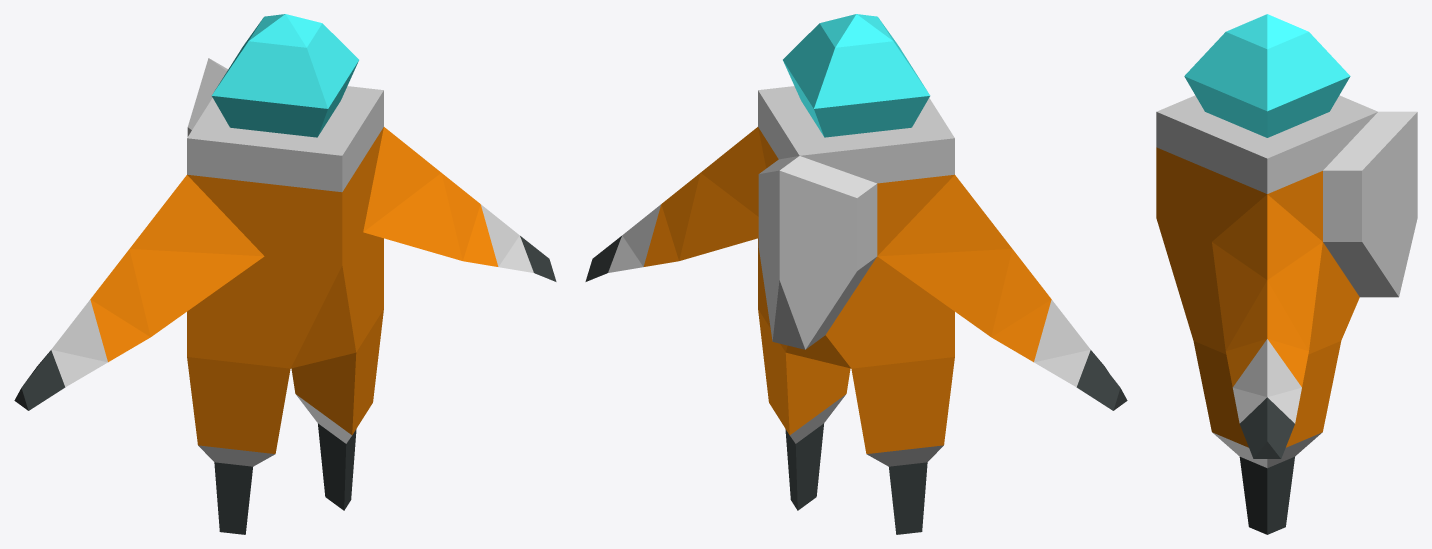
File: spaceman.fbx
3 renders of one model, left to right at view 1: azimuth 30°, elevation 25°; view 2: azimuth 150°, elevation 25°; view 3: azimuth 270°, elevation 25°, orthographic. The views are drawn at different scales.
Visible parts, largest first — view 1: spaceman; view 2: spaceman; view 3: spaceman.
Part boxes in pixels (x1,y1,x2,y2): spaceman: (14,14,556,534); spaceman: (585,14,1127,534); spaceman: (1156,14,1417,534).
Size of the model in its own units: 152 by 138 by 66.57.
Materials: 1 (1 with a texture image).
